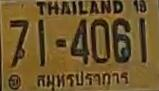0: (90, 18, 109, 62)
1: (138, 18, 146, 62), (38, 20, 44, 66)
4: (70, 18, 88, 63)
6: (112, 18, 130, 62)
7: (9, 19, 28, 66)
SPK: (35, 70, 129, 89)
